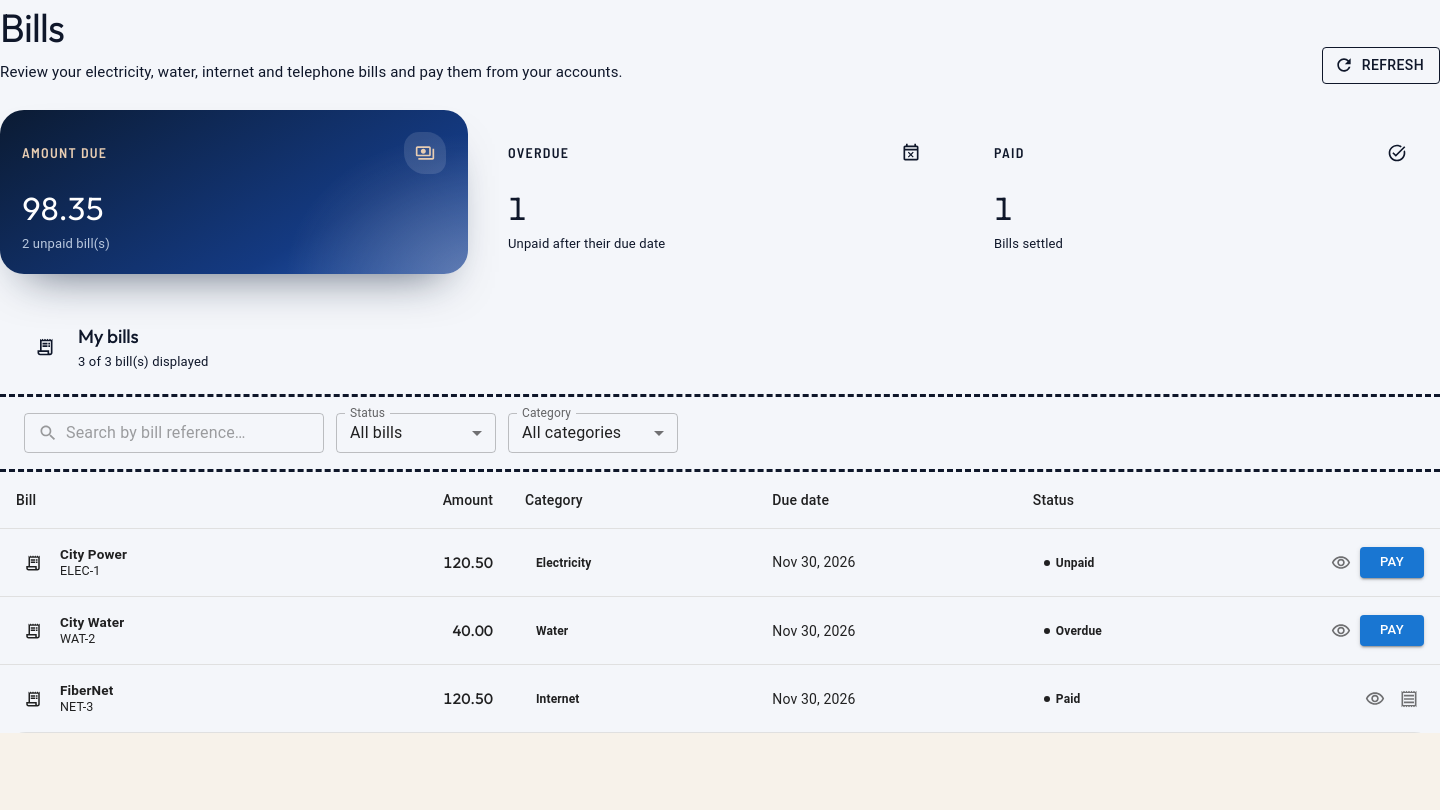
Test: ClientBills page › blocks the payment when the selected account clearly lacks funds
Click the button "Pay" in the row of "City Power" at (1392,562), box [1360,547,1424,578]
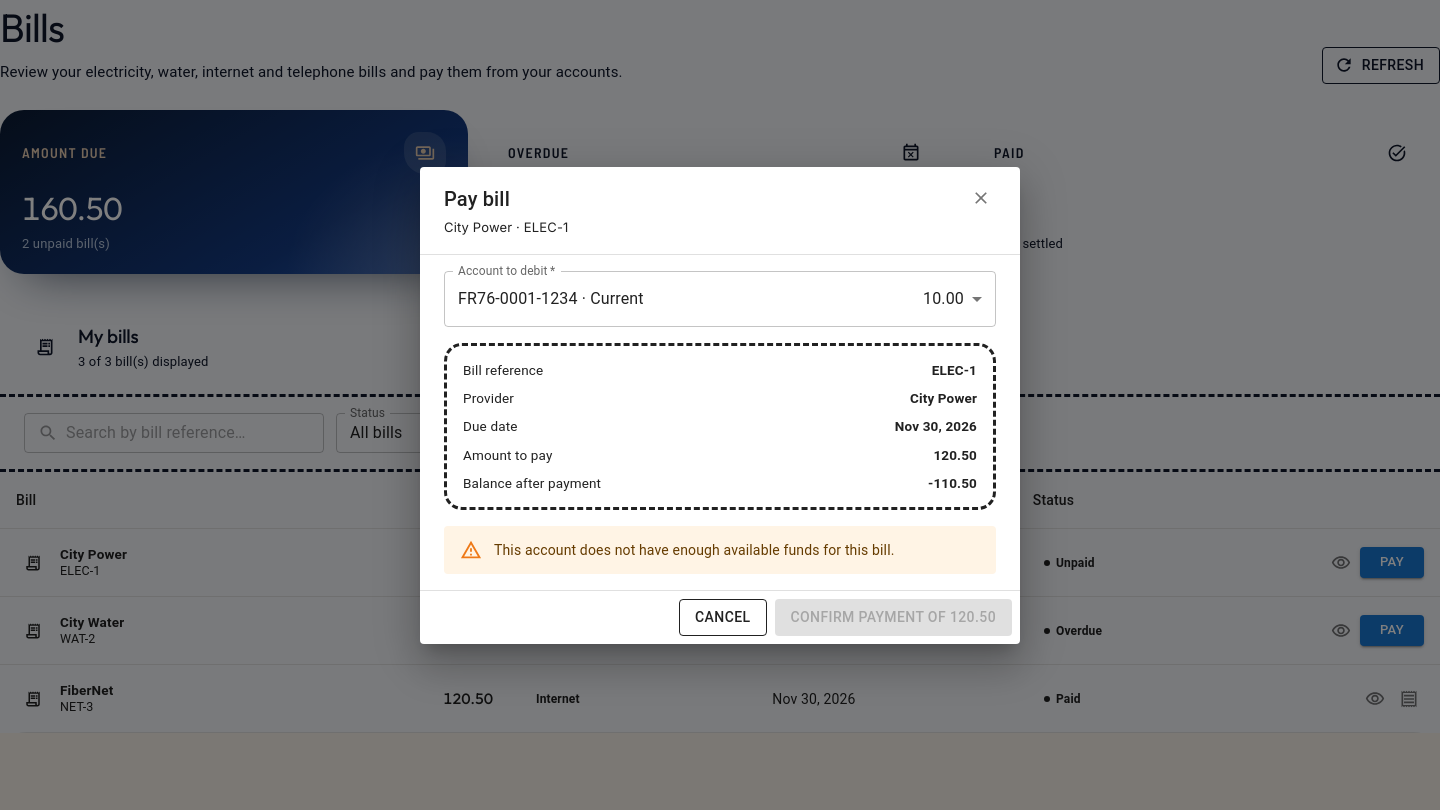
Result: the text "not have enough available funds" is shown at [494,542,894,558]
Result: the button "Confirm payment of 120.50" is disabled at [774,599,1012,635]
